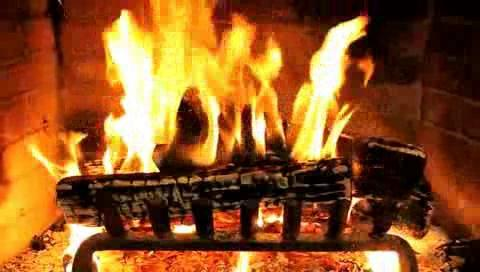fire: (13, 0, 480, 193)
